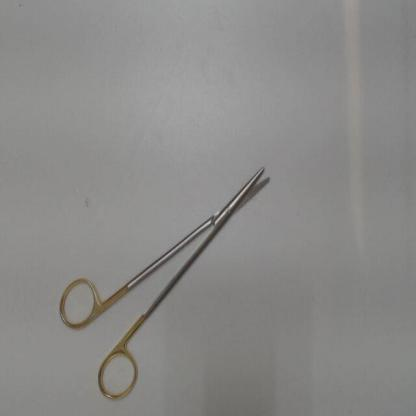7 Metzenbaum Scissors: (54, 160, 274, 408)
